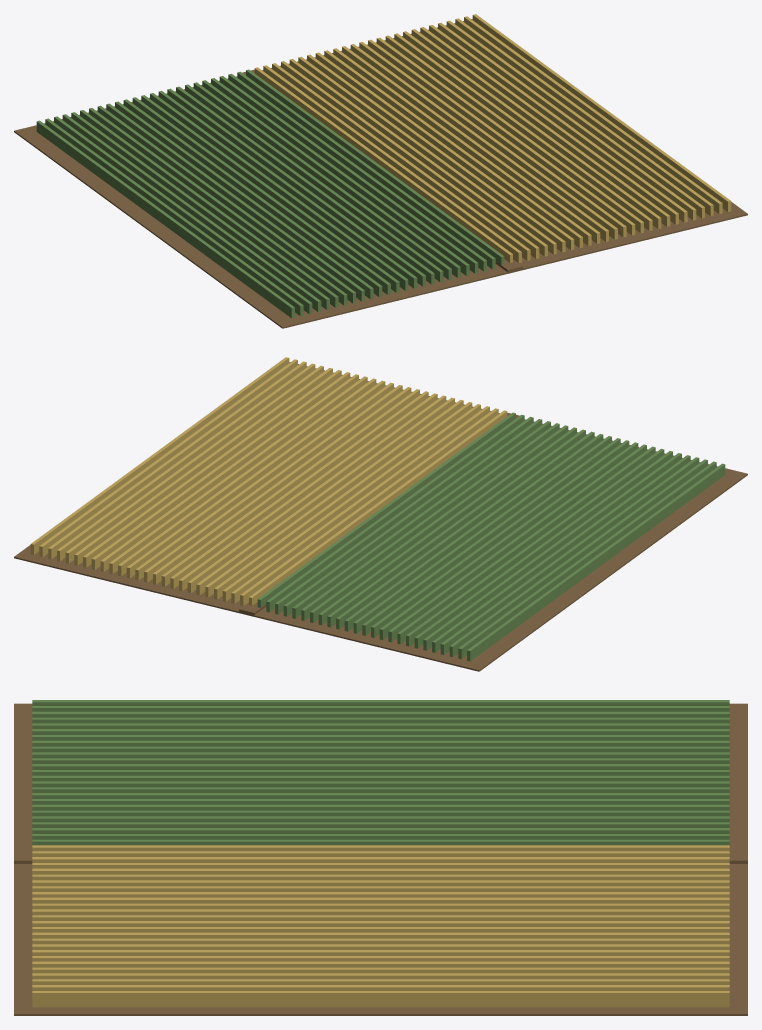
File: conservation-rotation.glb
3 renders of one model, top to bottom at view 1: azimuth 30°, elevation 25°; view 2: azimuth 150°, elevation 25°; view 3: azimuth 270°, elevation 25°, orthographic. The views are drawn at different scales.
Parts seen in each view (by area): view 1: conservation-rotation; view 2: conservation-rotation; view 3: conservation-rotation.
Part boxes in pixels (x1=…): conservation-rotation: x1=14, y1=14, x2=747, y2=328; conservation-rotation: x1=14, y1=357, x2=747, y2=671; conservation-rotation: x1=14, y1=700, x2=747, y2=1015.
Size of the model in its own units: 40 by 0.975 by 40.
